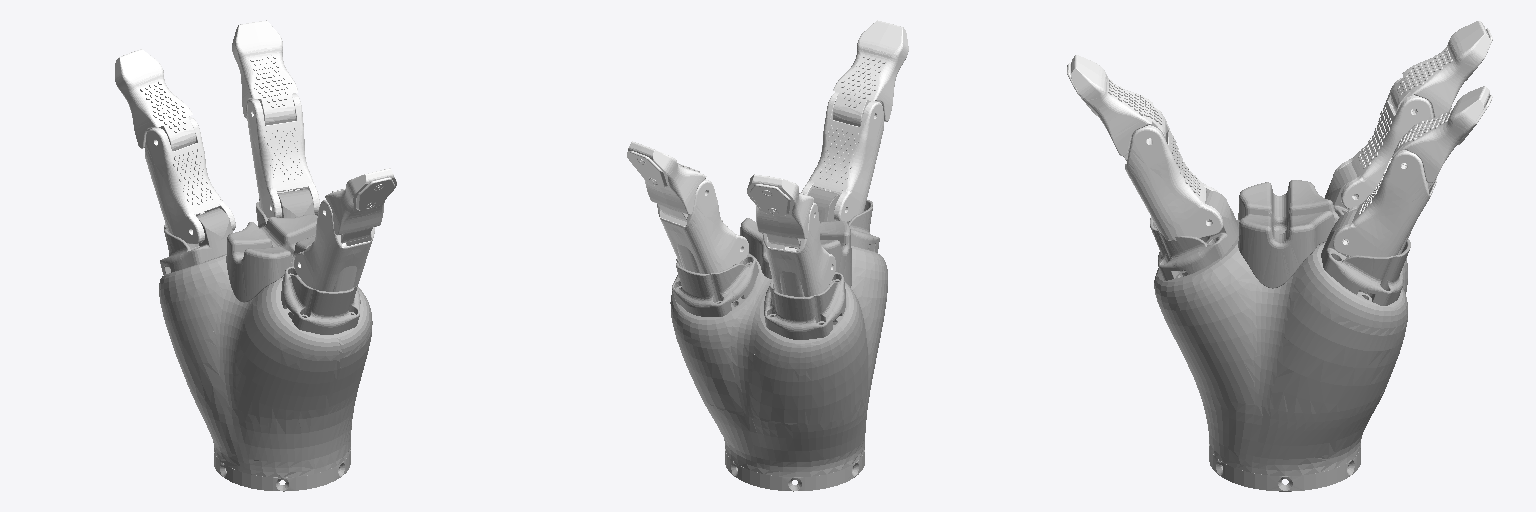
The robot description file, URDF, robot "kinova_kg3":
<?xml version="1.0" ?>
<!-- =================================================================================== -->
<!-- |    This document was autogenerated by xacro from kinova_kg3.xacro               | -->
<!-- |    EDITING THIS FILE BY HAND IS NOT RECOMMENDED                                 | -->
<!-- =================================================================================== -->
<robot name="kinova_kg3" xmlns:xacro="http://ros.org/wiki/xacro">
  <!--
	   Little helper macro to define the inertia matrix needed
	   for links.
	   -->
  <!-- width is along x axis
	     length is along y axis
	     height is along z axis
	-->
  <!-- length is along the y-axis! -->
  <!--<property name="PKG" value="package://kinova_kg3/"/>-->
  <!--
	<link name="base_link">
		<visual>
			<origin xyz="0 0 0.5" rpy="0 0 0"/>
			<geometry>
				<box size="0.2 0.2 1"/>
			</geometry>
			<mass value="0.0"/>
			<xacro:cuboid_inertia_def width="0.2" length="0.2" height="1.0" mass="2"/> 
		</visual>
		<collision>
			<origin xyz="0 0 0.5" rpy="0 0 0"/>
			<geometry>
				<box size="0.2 0.2 1"/>
			</geometry>
		</collision>
	</link>

	<joint name="base_to_hand" type="fixed">
		<origin xyz="-0.1 0 0.9" rpy="0 ${-90*M_PI/180} 0"/>
		<parent link="base_link"/>
		<child link="jaco_link_hand"/>
	</joint>
-->
  <link name="jaco_link_hand">
    <inertial>
      <origin rpy="0 0 0" xyz="-0.0002375 0.0041767 0.0758896"/>
      <!--<mass value="${0.121620/MESHLAB_SCALE/MESHLAB_SCALE}"/>-->
      <mass value="0.0"/>
      <inertia ixx="0.00021528" ixy="1e-08" ixz="-6e-08" iyy="0.00018751" iyz="-1.43e-06" izz="0.00015785"/>
    </inertial>
    <visual>
      <origin rpy="0 0 0" xyz="0 0 0"/>
      <geometry>
        <mesh filename="meshes/jaco_link_hand.STL"/>
      </geometry>
      <material name="">
        <color rgba="0.752941176470588 0.752941176470588 0.752941176470588 1"/>
      </material>
    </visual>
    <collision>
      <origin rpy="0 0 0" xyz="0 0 0"/>
      <geometry>
        <mesh filename="meshes/jaco_link_hand.STL"/>
      </geometry>
    </collision>
  </link>
  <!--<property name="PKG" value="package://kinova_kg3/"/>-->
  <joint name="jaco_joint_finger_1" type="revolute">
    <origin rpy="1.57925286601 -0.980344825914 -1.60227019088" xyz="0.00228309324473 -0.0312566848706 0.114430431187"/>
    <parent link="jaco_link_hand"/>
    <child link="jaco_link_finger_1"/>
    <limit effort="30" lower="0" upper="0.872664625997" velocity="5"/>
    <axis xyz="0 0 1"/>
  </joint>
  <link name="jaco_link_finger_1">
    <inertial>
      <origin rpy="0 0 0" xyz="0.0208232 -0.0062151 4.3e-06"/>
      <mass value="0.0008862"/>
      <inertia ixx="1.04e-06" ixy="-1.3e-07" ixz="0.0" iyy="2.39e-06" iyz="0.0" izz="2.18e-06"/>
    </inertial>
    <visual>
      <origin rpy="0 0 0" xyz="0 0 0"/>
      <geometry>
        <mesh filename="meshes/jaco_link_finger_2.STL"/>
      </geometry>
      <material name="kinova_color">
        <color rgba="1 1 1 1"/>
      </material>
    </visual>
    <collision>
      <origin rpy="0 0 0" xyz="0 0 0"/>
      <geometry>
        <mesh filename="meshes/jaco_link_finger_2.STL"/>
      </geometry>
    </collision>
  </link>
  <link name="jaco_link_finger_tip_1">
    <inertial>
      <origin rpy="0 0 0" xyz="0.0140432 -0.006058 7e-07"/>
      <mass value="0.0124078189139213"/>
      <inertia ixx="6.8e-07" ixy="2.8e-07" ixz="0.0" iyy="2.47e-06" iyz="0.0" izz="2.36e-06"/>
    </inertial>
    <visual>
      <origin rpy="0 0 0" xyz="0 0 0"/>
      <geometry>
        <mesh filename="meshes/jaco_link_finger_tip_2.STL"/>
      </geometry>
      <material name="kinova_color"/>
    </visual>
    <collision>
      <origin rpy="0 0 0" xyz="0 0 0"/>
      <geometry>
        <mesh filename="meshes/jaco_link_finger_tip_2.STL"/>
      </geometry>
    </collision>
  </link>
  <joint name="jaco_joint_finger_tip_1" type="revolute">
    <origin rpy="-1.11022302462516E-16 1.38777878078145E-17 -8.67361737988404E-18" xyz="0.0441021541423999 0 0"/>
    <parent link="jaco_link_finger_1"/>
    <child link="jaco_link_finger_tip_1"/>
    <limit effort="30" lower="0" upper="0.872664625997" velocity="5"/>
    <axis xyz="0 0 1"/>
  </joint>
  <joint name="jaco_joint_finger_2" type="revolute">
    <origin rpy="1.56248404081 -0.979964587179 1.39416913027" xyz="0.021684484967 0.0270991446492 0.114669378847"/>
    <parent link="jaco_link_hand"/>
    <child link="jaco_link_finger_2"/>
    <limit effort="30" lower="0" upper="0.872664625997" velocity="5"/>
    <axis xyz="0 0 1"/>
  </joint>
  <link name="jaco_link_finger_2">
    <inertial>
      <origin rpy="0 0 0" xyz="0.0208232 -0.0062151 4.3e-06"/>
      <mass value="0.0008862"/>
      <inertia ixx="1.04e-06" ixy="-1.3e-07" ixz="0.0" iyy="2.39e-06" iyz="0.0" izz="2.18e-06"/>
    </inertial>
    <visual>
      <origin rpy="0 0 0" xyz="0 0 0"/>
      <geometry>
        <mesh filename="meshes/jaco_link_finger_2.STL"/>
      </geometry>
      <material name="kinova_color">
        <color rgba="1 1 1 1"/>
      </material>
    </visual>
    <collision>
      <origin rpy="0 0 0" xyz="0 0 0"/>
      <geometry>
        <mesh filename="meshes/jaco_link_finger_2.STL"/>
      </geometry>
    </collision>
  </link>
  <link name="jaco_link_finger_tip_2">
    <inertial>
      <origin rpy="0 0 0" xyz="0.0140432 -0.006058 7e-07"/>
      <mass value="0.0124078189139213"/>
      <inertia ixx="6.8e-07" ixy="2.8e-07" ixz="0.0" iyy="2.47e-06" iyz="0.0" izz="2.36e-06"/>
    </inertial>
    <visual>
      <origin rpy="0 0 0" xyz="0 0 0"/>
      <geometry>
        <mesh filename="meshes/jaco_link_finger_tip_2.STL"/>
      </geometry>
      <material name="kinova_color"/>
    </visual>
    <collision>
      <origin rpy="0 0 0" xyz="0 0 0"/>
      <geometry>
        <mesh filename="meshes/jaco_link_finger_tip_2.STL"/>
      </geometry>
    </collision>
  </link>
  <joint name="jaco_joint_finger_tip_2" type="revolute">
    <origin rpy="-1.11022302462516E-16 1.38777878078145E-17 -8.67361737988404E-18" xyz="0.0441021541423999 0 0"/>
    <parent link="jaco_link_finger_2"/>
    <child link="jaco_link_finger_tip_2"/>
    <limit effort="30" lower="0" upper="0.872664625997" velocity="5"/>
    <axis xyz="0 0 1"/>
  </joint>
  <joint name="jaco_joint_finger_3" type="revolute">
    <origin rpy="1.56250901308 -0.978234931608 1.76352902216" xyz="-0.0228265816405 0.0270473381757 0.114459755558"/>
    <parent link="jaco_link_hand"/>
    <child link="jaco_link_finger_3"/>
    <limit effort="30" lower="0" upper="0.872664625997" velocity="5"/>
    <axis xyz="0 0 1"/>
  </joint>
  <link name="jaco_link_finger_3">
    <inertial>
      <origin rpy="0 0 0" xyz="0.0208232 -0.0062151 4.3e-06"/>
      <mass value="0.0008862"/>
      <inertia ixx="1.04e-06" ixy="-1.3e-07" ixz="0.0" iyy="2.39e-06" iyz="0.0" izz="2.18e-06"/>
    </inertial>
    <visual>
      <origin rpy="0 0 0" xyz="0 0 0"/>
      <geometry>
        <mesh filename="meshes/jaco_link_finger_2.STL"/>
      </geometry>
      <material name="kinova_color">
        <color rgba="1 1 1 1"/>
      </material>
    </visual>
    <collision>
      <origin rpy="0 0 0" xyz="0 0 0"/>
      <geometry>
        <mesh filename="meshes/jaco_link_finger_2.STL"/>
      </geometry>
    </collision>
  </link>
  <link name="jaco_link_finger_tip_3">
    <inertial>
      <origin rpy="0 0 0" xyz="0.0140432 -0.006058 7e-07"/>
      <mass value="0.0124078189139213"/>
      <inertia ixx="6.8e-07" ixy="2.8e-07" ixz="0.0" iyy="2.47e-06" iyz="0.0" izz="2.36e-06"/>
    </inertial>
    <visual>
      <origin rpy="0 0 0" xyz="0 0 0"/>
      <geometry>
        <mesh filename="meshes/jaco_link_finger_tip_2.STL"/>
      </geometry>
      <material name="kinova_color"/>
    </visual>
    <collision>
      <origin rpy="0 0 0" xyz="0 0 0"/>
      <geometry>
        <mesh filename="meshes/jaco_link_finger_tip_2.STL"/>
      </geometry>
    </collision>
  </link>
  <joint name="jaco_joint_finger_tip_3" type="revolute">
    <origin rpy="-1.11022302462516E-16 1.38777878078145E-17 -8.67361737988404E-18" xyz="0.0441021541423999 0 0"/>
    <parent link="jaco_link_finger_3"/>
    <child link="jaco_link_finger_tip_3"/>
    <limit effort="30" lower="0" upper="0.872664625997" velocity="5"/>
    <axis xyz="0 0 1"/>
  </joint>
</robot>

--- What the picture shows (computed from the rendered views, not written in the file) ---
The picture shows the robot from 3 angles, left to right: view 1: azimuth 30°, elevation 25°; view 2: azimuth 150°, elevation 25°; view 3: azimuth 270°, elevation 25°; orthographic projection.
Model kinova_kg3 with 7 links and 6 joints (6 revolute), rooted at jaco_link_hand, posed every joint at zero.
Links seen in each view (by area): view 1: jaco_link_hand, jaco_link_finger_3, jaco_link_finger_2, jaco_link_finger_1; view 2: jaco_link_hand, jaco_link_finger_1, jaco_link_finger_2, jaco_link_finger_3; view 3: jaco_link_hand, jaco_link_finger_1, jaco_link_finger_2, jaco_link_finger_3.
Link boxes in pixels (bbox=[...]): jaco_link_hand: bbox=[159, 189, 372, 491]; jaco_link_finger_3: bbox=[115, 49, 235, 243]; jaco_link_finger_2: bbox=[232, 20, 319, 218]; jaco_link_finger_1: bbox=[294, 168, 396, 291]; jaco_link_hand: bbox=[670, 188, 887, 491]; jaco_link_finger_1: bbox=[801, 20, 908, 221]; jaco_link_finger_2: bbox=[627, 141, 748, 273]; jaco_link_finger_3: bbox=[747, 174, 835, 296]; jaco_link_hand: bbox=[1150, 166, 1410, 491]; jaco_link_finger_1: bbox=[1067, 55, 1222, 240]; jaco_link_finger_2: bbox=[1333, 86, 1492, 256]; jaco_link_finger_3: bbox=[1333, 21, 1492, 208].
Size in the robot's own frame: 0.0927 by 0.1762 by 0.1824 metres.
4 mesh visuals loaded from 3 distinct referenced files (2 binary STL); not drawn: 3 (reference not matched to a file when rendering).